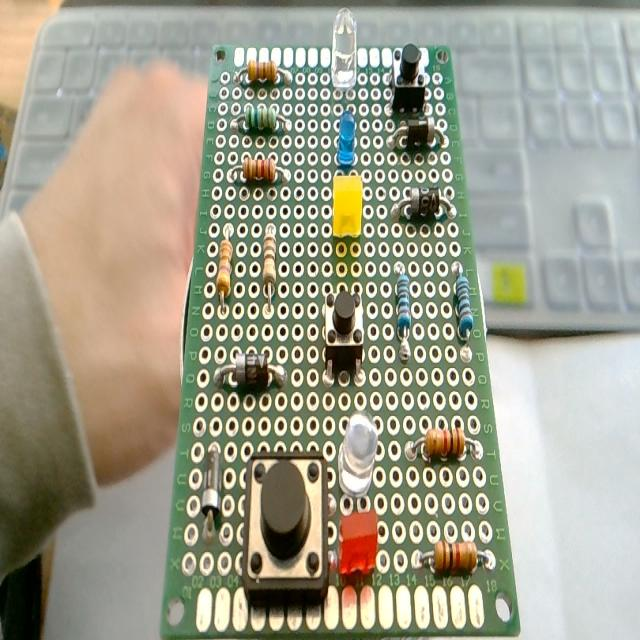diode: (215, 353, 287, 393), (392, 187, 454, 222), (200, 446, 222, 541), (389, 118, 445, 151)
led: (338, 411, 379, 497), (337, 508, 380, 576), (330, 7, 358, 94), (331, 174, 363, 238), (337, 110, 356, 167)
resistor: (406, 425, 479, 463), (416, 541, 493, 576), (450, 260, 474, 348), (394, 267, 412, 362), (232, 160, 290, 188), (233, 61, 291, 87), (261, 222, 277, 316), (232, 108, 288, 134), (216, 230, 234, 309)
switch: (241, 450, 329, 604), (324, 288, 364, 382), (388, 42, 428, 115)
